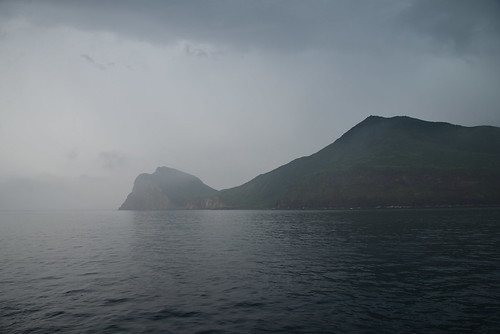turtleIslandLeft: (126, 104, 500, 206)
